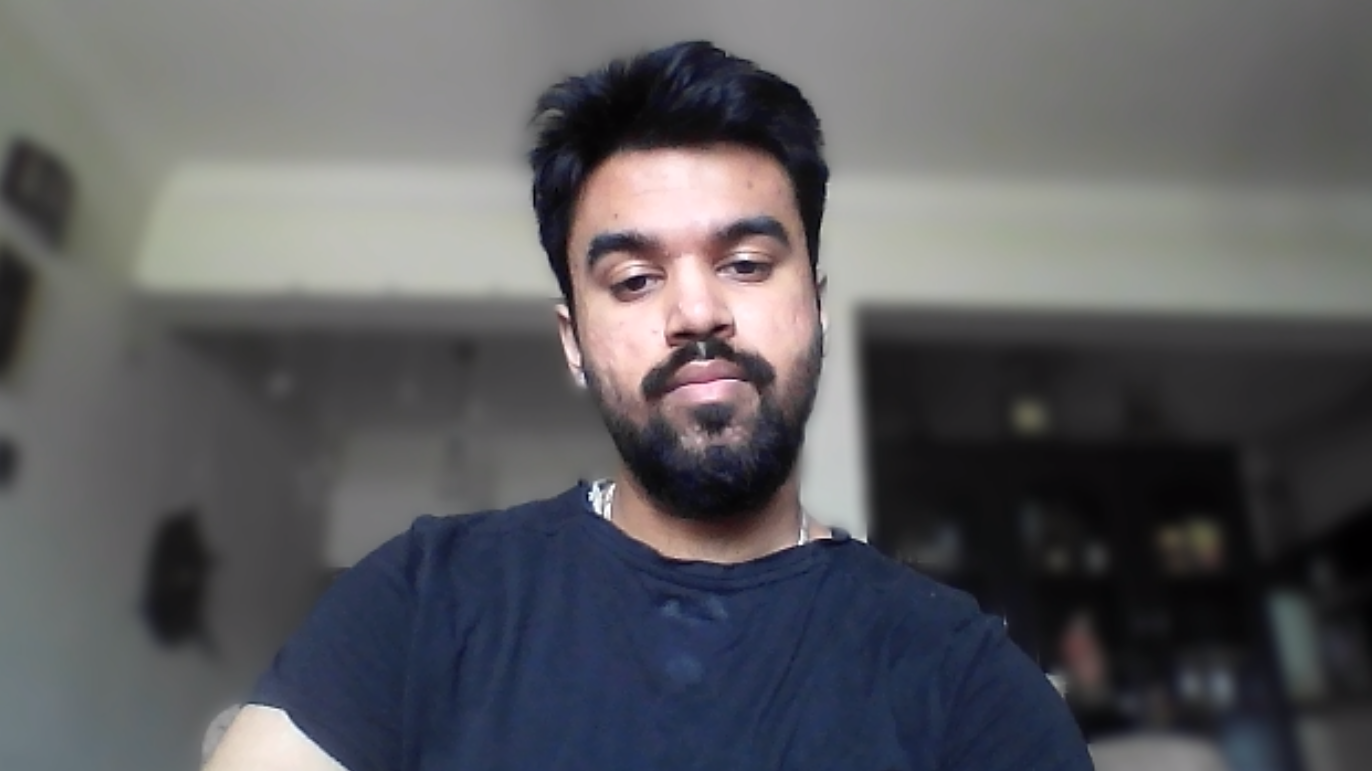NoMask: (577, 318, 848, 508)
